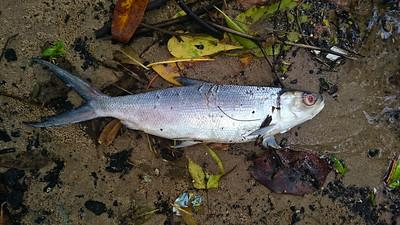Bangus: (27, 59, 324, 145)
